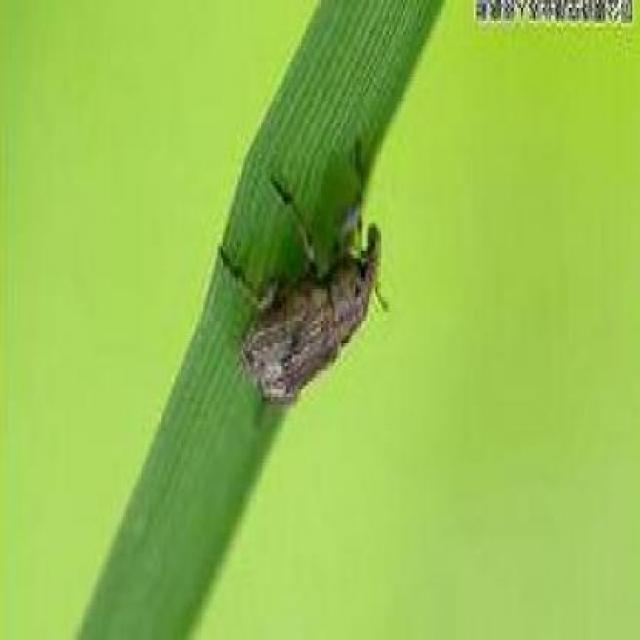rice-bug: (225, 166, 388, 411)
